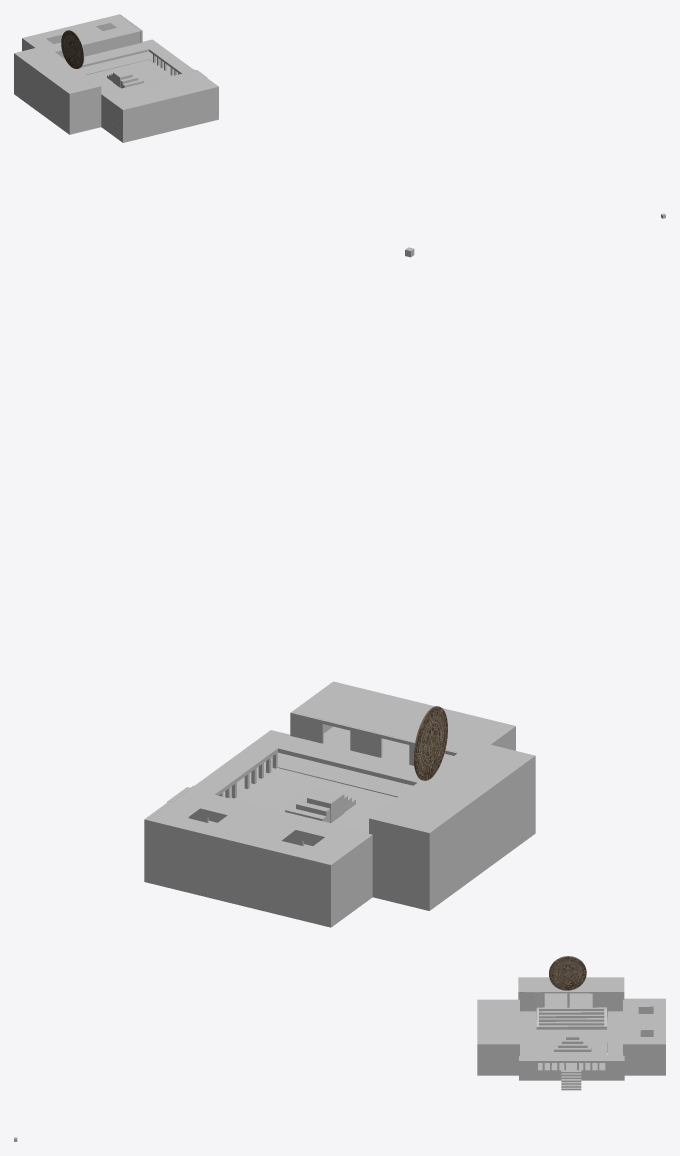
Rendered from CasaGrande.obj.
3 views of the same model, one above another, from view 1: azimuth 30°, elevation 25°; view 2: azimuth 150°, elevation 25°; view 3: azimuth 270°, elevation 25° (orthographic). The views are drawn at different scales.
Visible parts, largest first — view 1: Plano_Material.001, Plano_Material.015, calendario_azteca_Material.009; view 2: Plano_Material.001, Plano_Material.015, calendario_azteca_Material.009; view 3: Plano_Material.001, Plano_Material.015, calendario_azteca_Material.009.
Boxes of the visible parts, x1,y1,x2,y2 form: Plano_Material.001: [14, 14, 218, 142]; Plano_Material.015: [87, 60, 665, 218]; calendario_azteca_Material.009: [61, 30, 84, 68]; Plano_Material.001: [144, 681, 535, 927]; Plano_Material.015: [167, 247, 453, 832]; calendario_azteca_Material.009: [413, 706, 447, 780]; Plano_Material.001: [477, 977, 665, 1080]; Plano_Material.015: [14, 993, 606, 1141]; calendario_azteca_Material.009: [549, 956, 586, 990].
Bounding box in the file's own units: 212 × 47.61 × 380.
